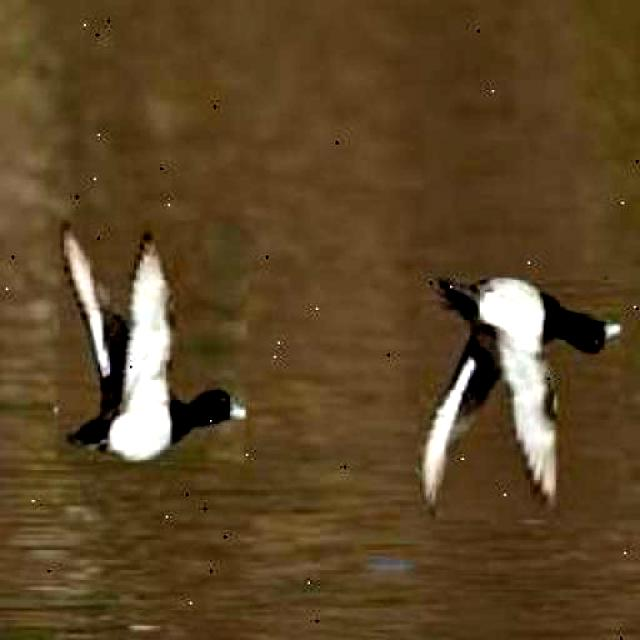airplane: (418, 275, 621, 521), (56, 218, 248, 464)
